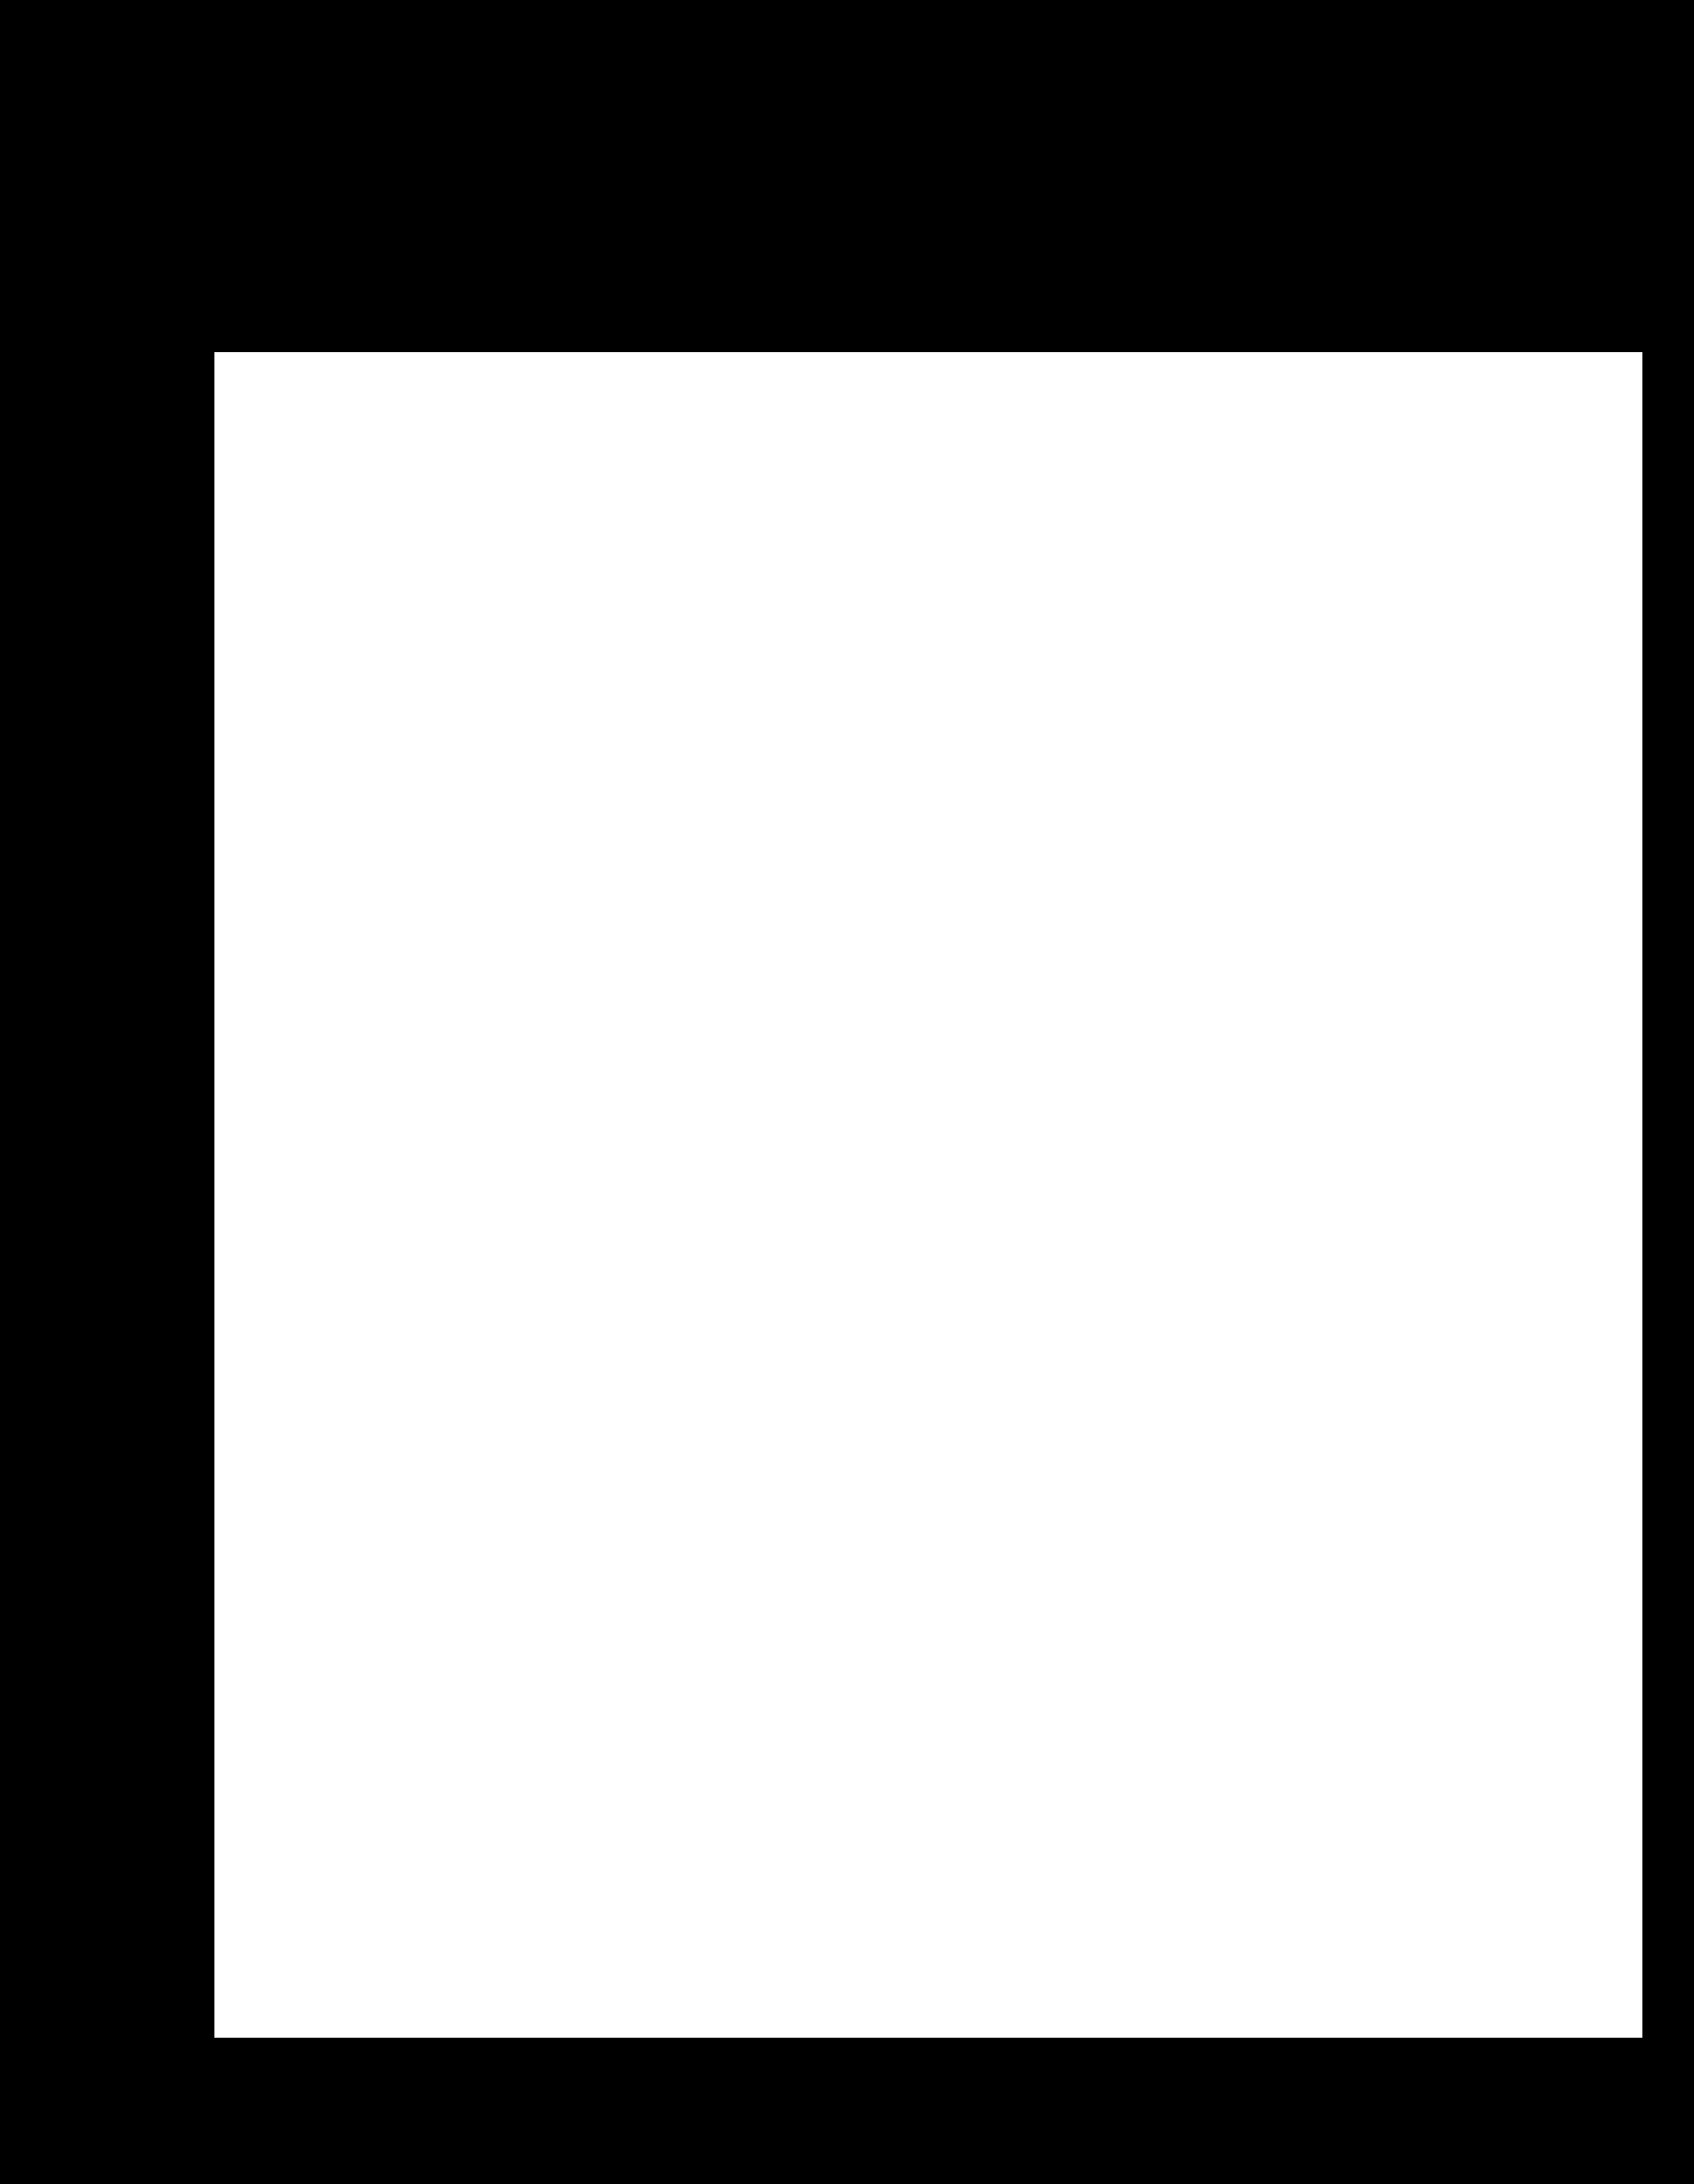table: (214, 353, 1641, 2037)
